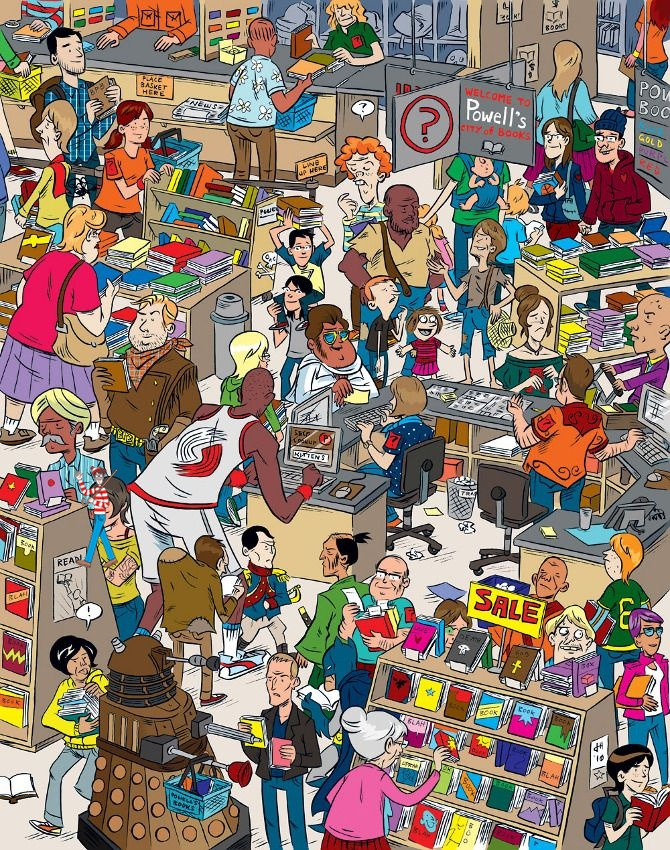waldo: (74, 466, 118, 568)
